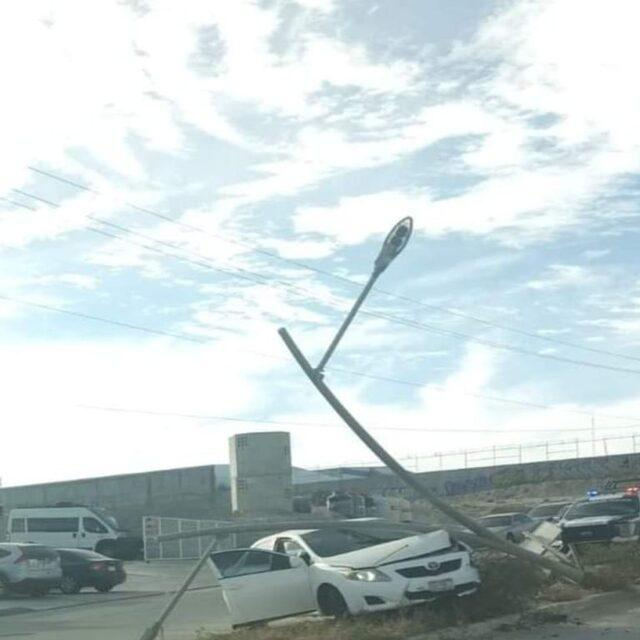Inclined Pole: (278, 212, 590, 590)
